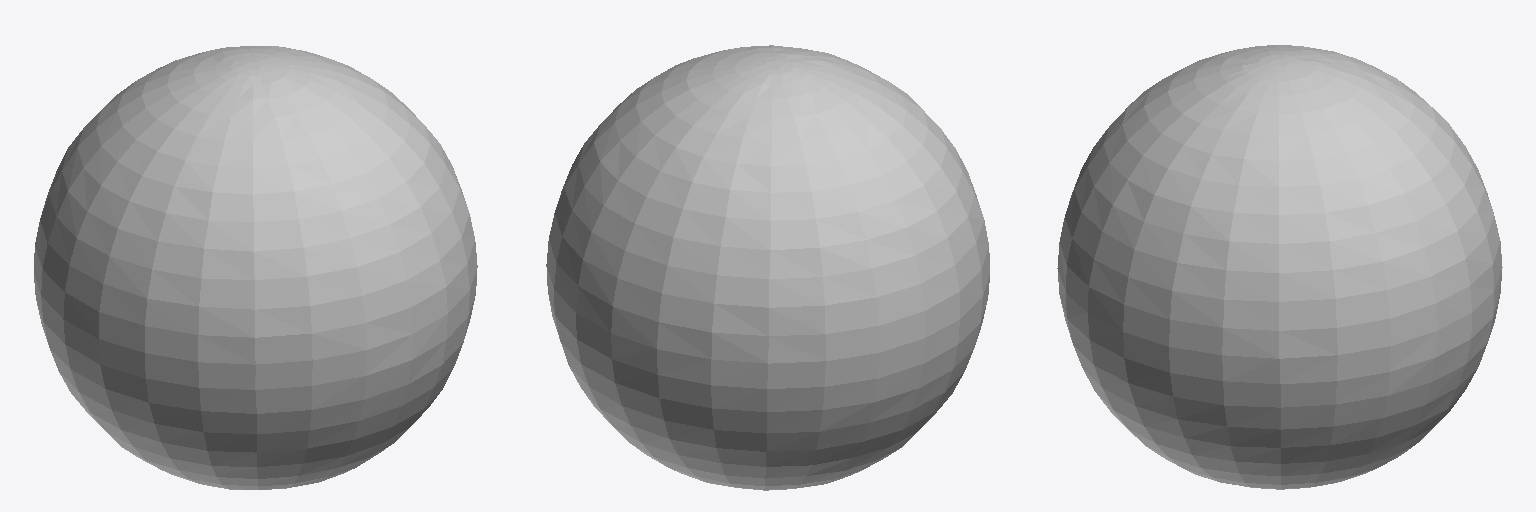
The model's file is EyeInterior_L.obj.
3 views of the same model, side by side, from view 1: azimuth 30°, elevation 25°; view 2: azimuth 150°, elevation 25°; view 3: azimuth 270°, elevation 25° (orthographic).
Visible parts, largest first — view 1: EyeInterior_L; view 2: EyeInterior_L; view 3: EyeInterior_L.
Boxes of the visible parts, x1=… form: EyeInterior_L: x1=34, y1=46, x2=477, y2=489; EyeInterior_L: x1=546, y1=45, x2=989, y2=490; EyeInterior_L: x1=1057, y1=45, x2=1502, y2=489.
Bounding box in the file's own units: 0.0213 × 0.0203 × 0.0213.